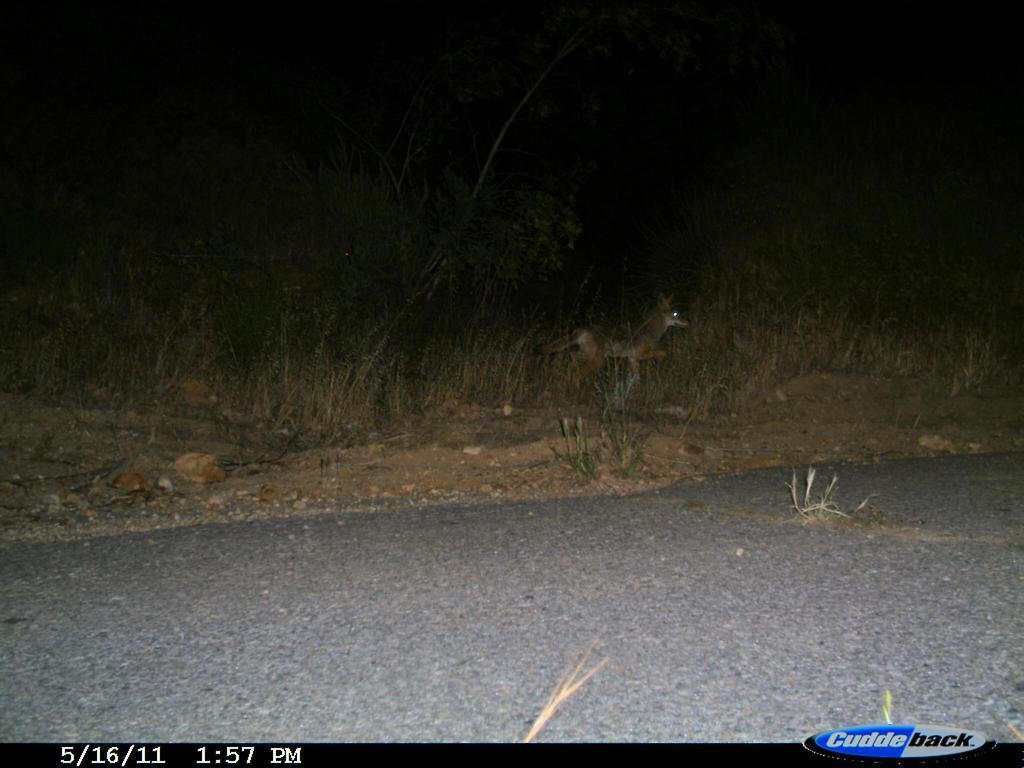coyote: (534, 290, 699, 390)
